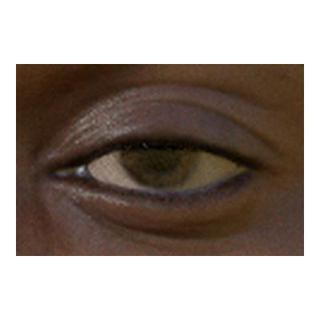pupil: (142, 133, 178, 168)
